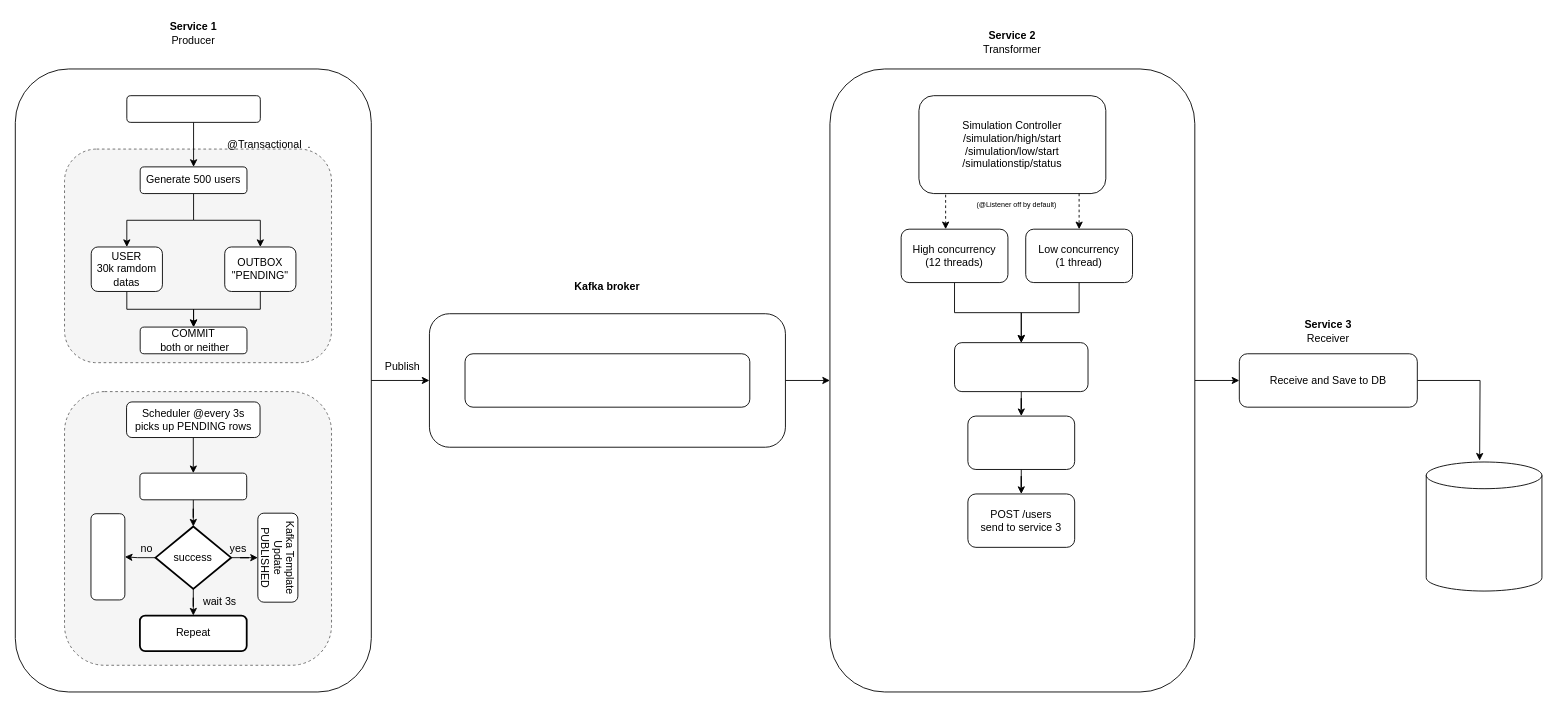
This 1558x708 diagram has some shape labels left out. Here are the shapes that lost their labels. From the top down, the centre of each, then its label:
pixel 193 108: App startup
pixel 607 380: topic: user-raw 12 Partition P0,P1,P2,P3 ......P11
pixel 1021 367: Deserialize JSON String -> user object
pixel 1021 442: Change Status DB
pixel 193 486: Publish to Kafka
pixel 1483 526: Save User to DB
pixel 107 556: Update FAILED
